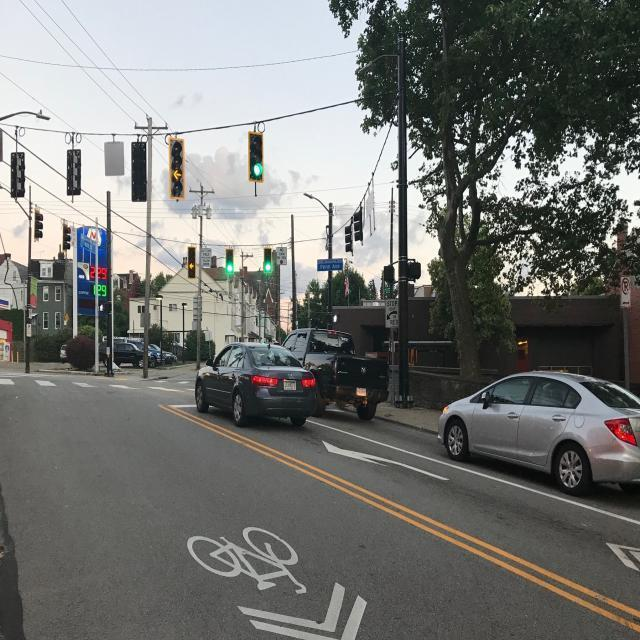green_light: (243, 128, 273, 188), (257, 242, 283, 284), (223, 240, 242, 284)
yellow_light: (160, 137, 193, 208), (180, 238, 203, 284)
